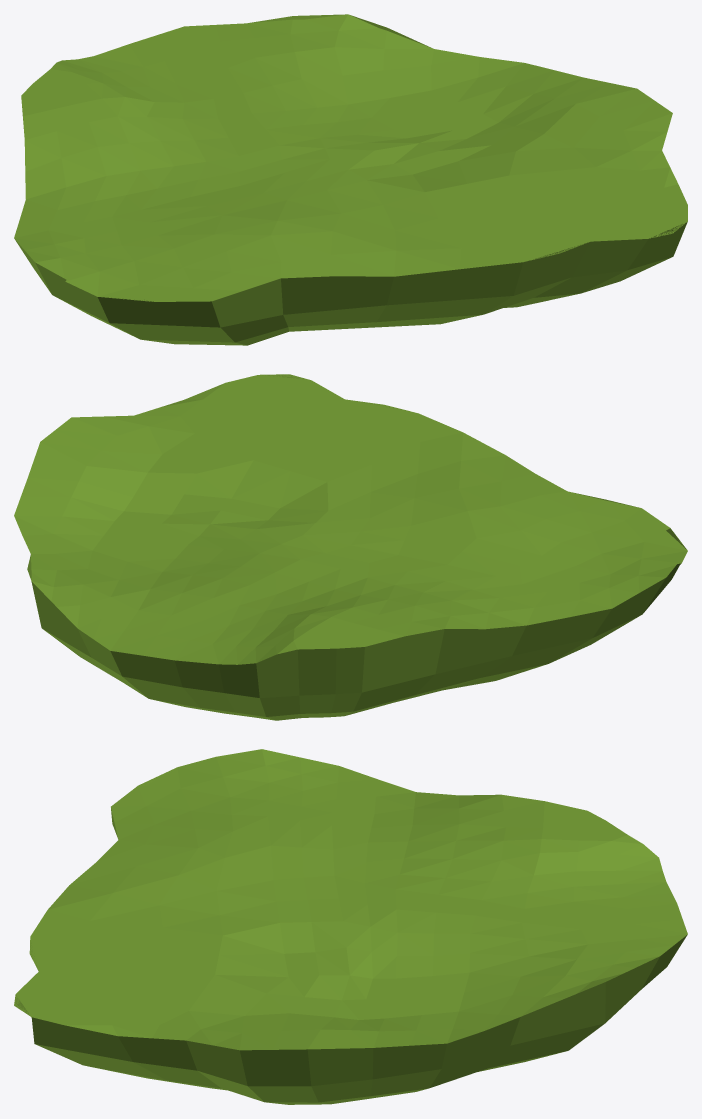
Rendered from mod_terrain02_separate.fbx.
3 renders of one model, top to bottom at view 1: azimuth 30°, elevation 25°; view 2: azimuth 150°, elevation 25°; view 3: azimuth 270°, elevation 25°, orthographic. The views are drawn at different scales.
Parts seen in each view (by area): view 1: mod_terrain01, mod_terrain01.001; view 2: mod_terrain01, mod_terrain01.001; view 3: mod_terrain01, mod_terrain01.001.
Part boxes in pixels (x1,y1,x2,y2): mod_terrain01: [14, 14, 687, 301]; mod_terrain01.001: [15, 14, 687, 345]; mod_terrain01: [14, 374, 687, 664]; mod_terrain01.001: [27, 374, 686, 720]; mod_terrain01: [14, 749, 687, 1050]; mod_terrain01.001: [14, 749, 687, 1104].
Bounding box in the file's own units: 2252 × 406 × 2098.
